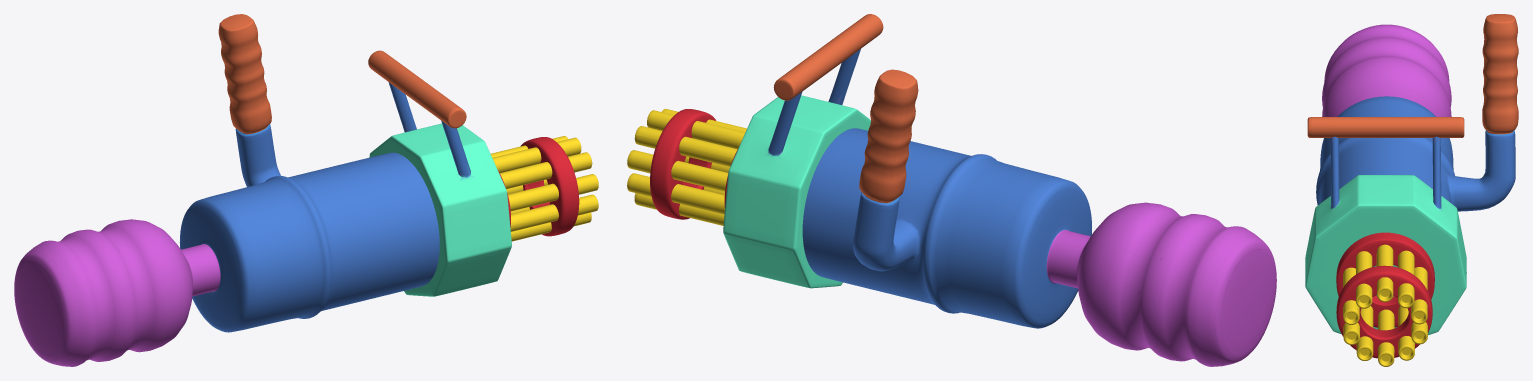
The model's file is Machine.fbx.
The picture shows the model from 3 angles, left to right: view 1: azimuth 30°, elevation 25°; view 2: azimuth 150°, elevation 25°; view 3: azimuth 270°, elevation 25°; orthographic projection. The views are drawn at different scales.
Visible parts, largest first — view 1: Cylinder.001, Cylinder.003, Cylinder, Cylinder.002; view 2: Cylinder.001, Cylinder.003, Cylinder, Cylinder.002; view 3: Cylinder.001, Cylinder.003, Cylinder, Cylinder.002, Cylinder.004.
Part boxes in pixels (x1,y1,x2,y2): Cylinder.001: (14,14,439,366); Cylinder.003: (368,50,511,296); Cylinder: (490,136,598,241); Cylinder.002: (520,137,579,236); Cylinder.001: (802,69,1276,366); Cylinder.003: (723,14,883,288); Cylinder: (627,108,746,225); Cylinder.002: (650,109,716,219); Cylinder.001: (1316,14,1518,211); Cylinder.003: (1305,117,1466,335); Cylinder: (1343,244,1427,366); Cylinder.002: (1336,265,1432,358); Cylinder.004: (1336,232,1434,327).
Bounding box in the file's own units: 14788 × 6793 × 5241.
